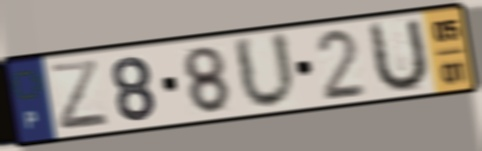2: (313, 26, 368, 104)
8: (179, 44, 234, 115), (110, 54, 159, 123)
U: (229, 29, 300, 113), (367, 14, 432, 96)
Z: (47, 57, 113, 133)
